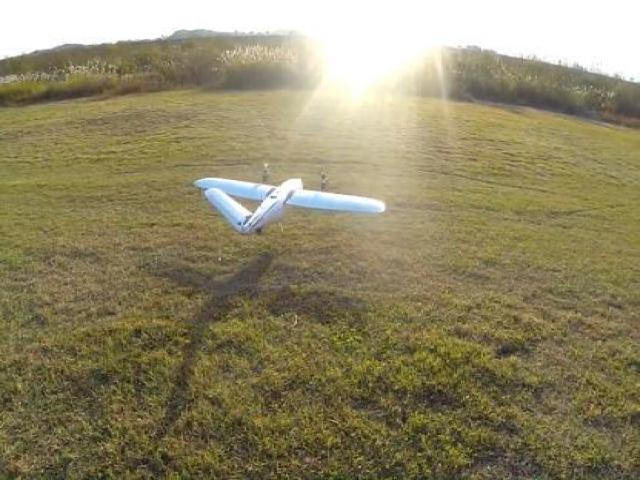uav: (187, 157, 395, 254)
